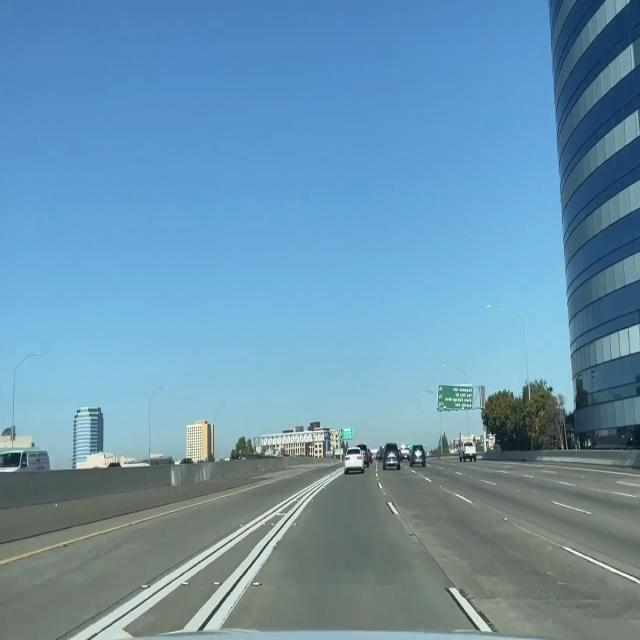street-signs: (437, 385, 474, 410), (342, 426, 353, 441)
